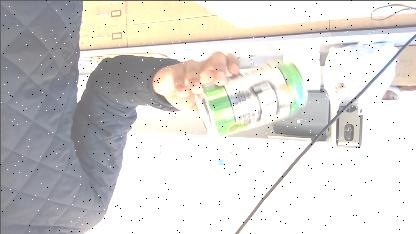Can: (188, 56, 308, 140)
